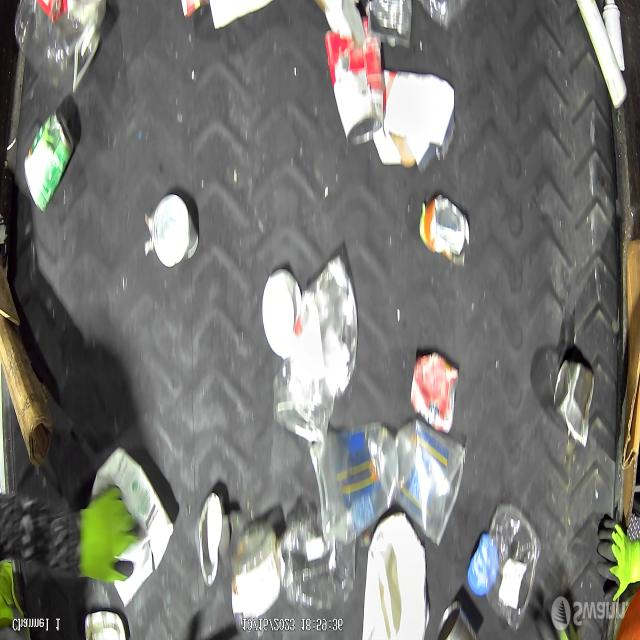can: (324, 18, 384, 148), (24, 112, 74, 214), (410, 352, 460, 433), (554, 360, 596, 448), (419, 196, 471, 264), (153, 195, 198, 268), (195, 492, 225, 588), (366, 0, 414, 52), (435, 602, 478, 640)
milk_jug: (362, 512, 428, 640)
